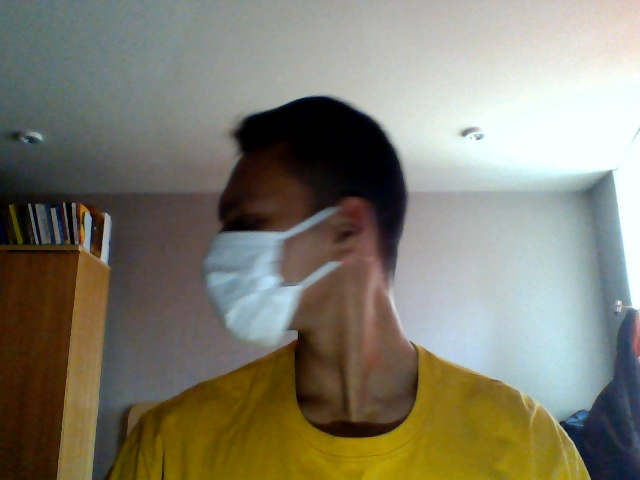mask: (198, 228, 306, 342)
